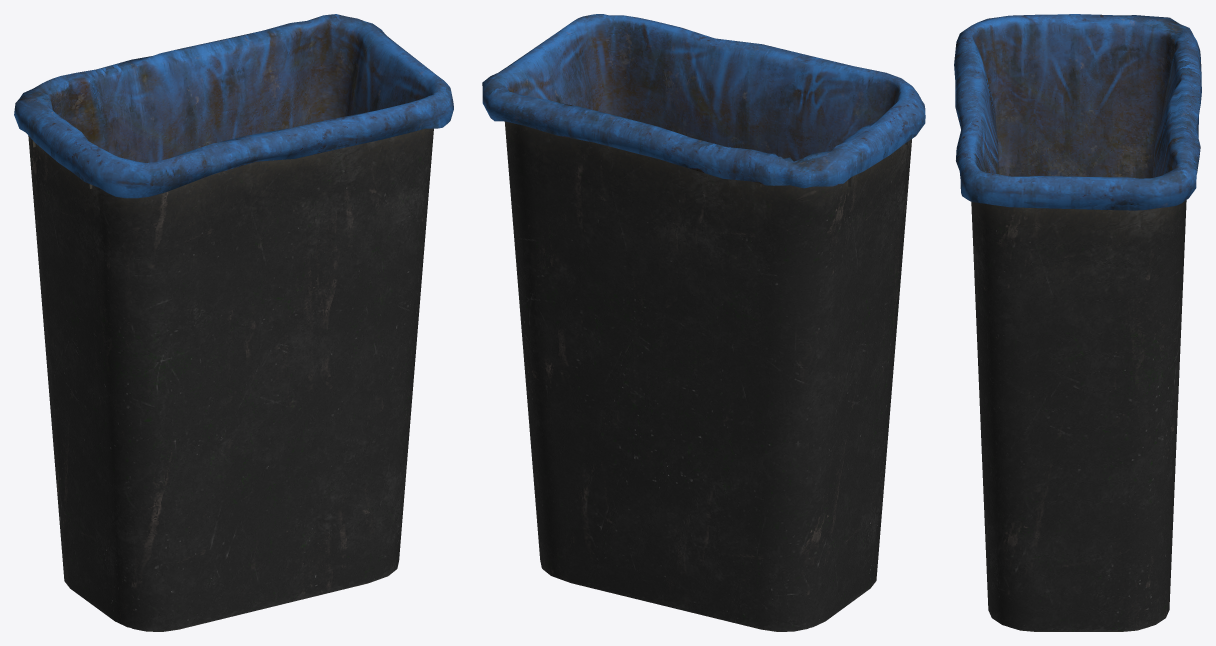
File: trash_bin.glb
3 renders of one model, left to right at view 1: azimuth 30°, elevation 25°; view 2: azimuth 150°, elevation 25°; view 3: azimuth 270°, elevation 25°, orthographic. The views are drawn at different scales.
Visible parts, largest first — view 1: TrashBin_low, TrashBag_low; view 2: TrashBin_low, TrashBag_low; view 3: TrashBin_low, TrashBag_low.
Part boxes in pixels (x1=…): TrashBin_low: x1=28, y1=128, x2=433, y2=631; TrashBag_low: x1=14, y1=14, x2=453, y2=198; TrashBin_low: x1=505, y1=121, x2=911, y2=631; TrashBag_low: x1=482, y1=14, x2=925, y2=188; TrashBin_low: x1=971, y1=200, x2=1186, y2=631; TrashBag_low: x1=954, y1=14, x2=1201, y2=210.
Bounding box in the file's own units: 0.339 × 0.4367 × 0.2052.
Materials: 1 (1 with a texture image).
